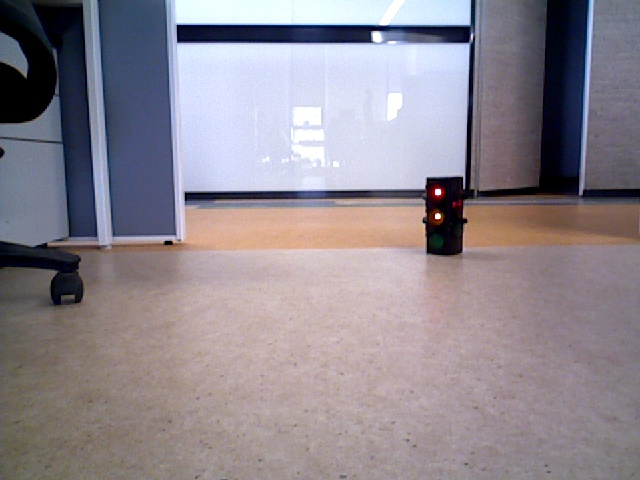red: (426, 177, 459, 249)
